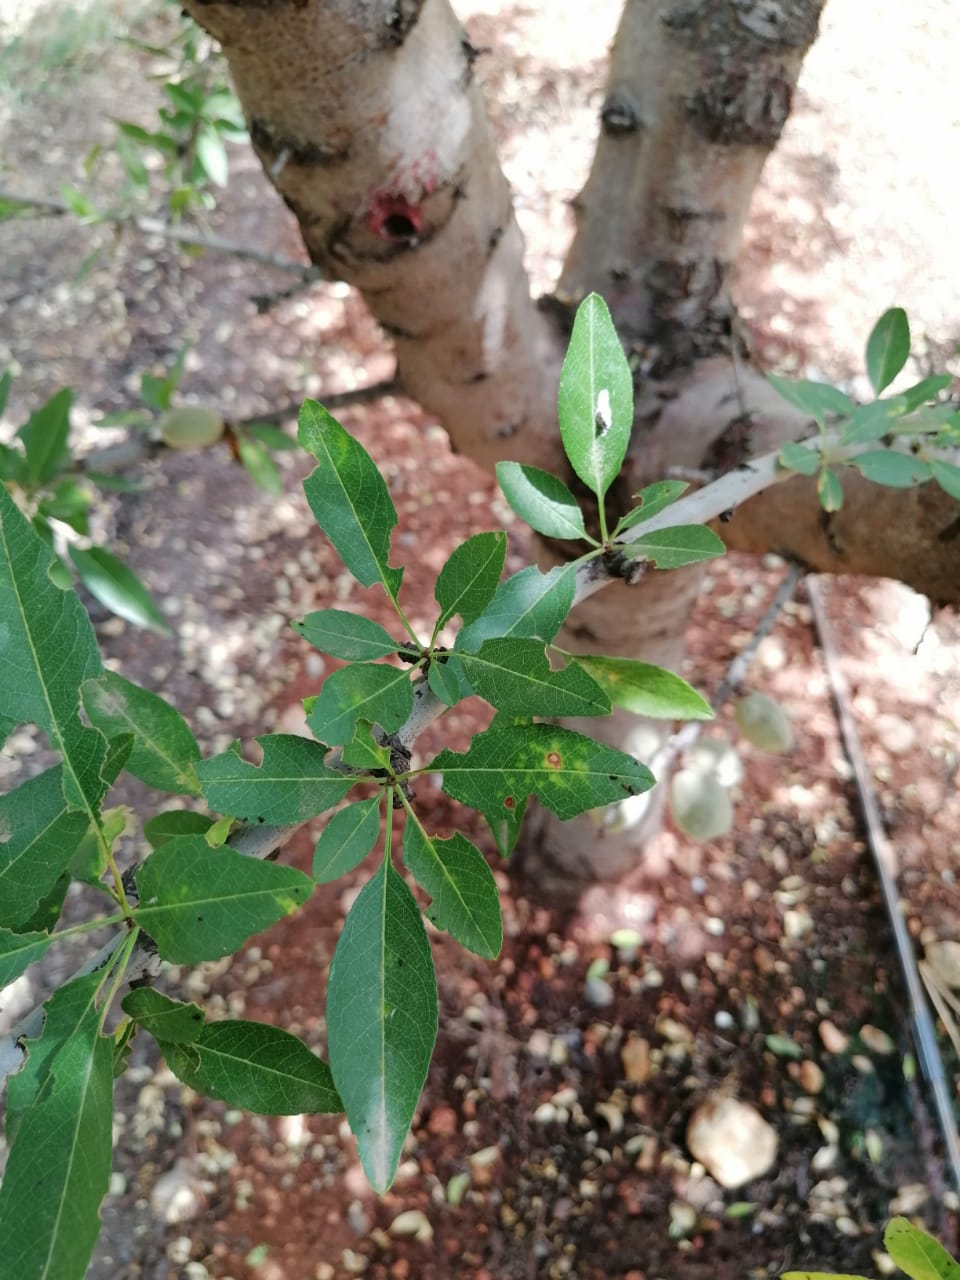othyorinques: (1, 476, 114, 827), (428, 722, 657, 825), (292, 396, 401, 606), (188, 731, 367, 823), (401, 808, 503, 967), (453, 634, 615, 719)
